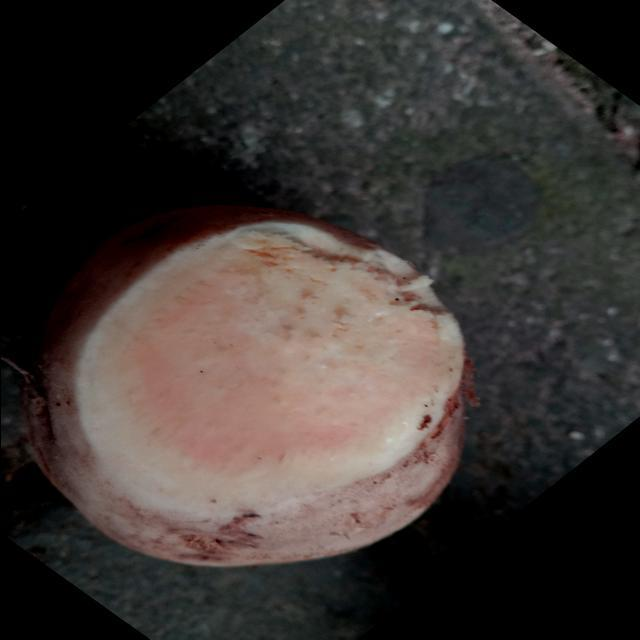Healthy Sweet Potato: (77, 221, 465, 511)
